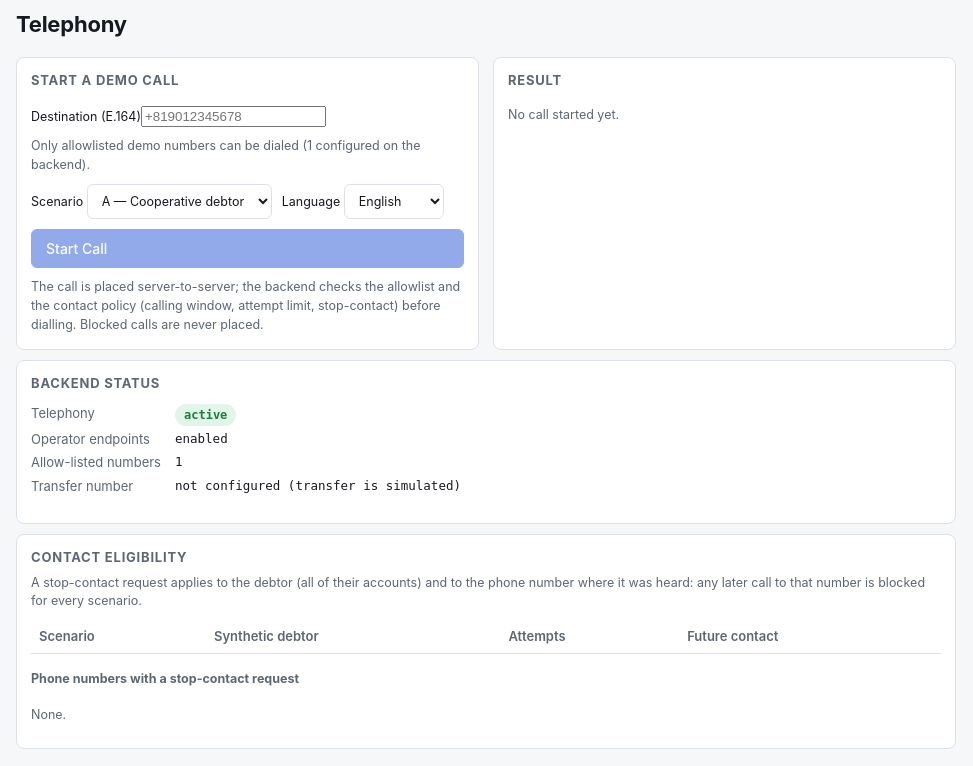
Test: Start Call › error 0 renders inline
The width and height of the screenshot is (973, 766).
Type "+81 90-1234-5678" into the field with placeholder "+819012345678" at (234,116), box [141, 106, 326, 127]
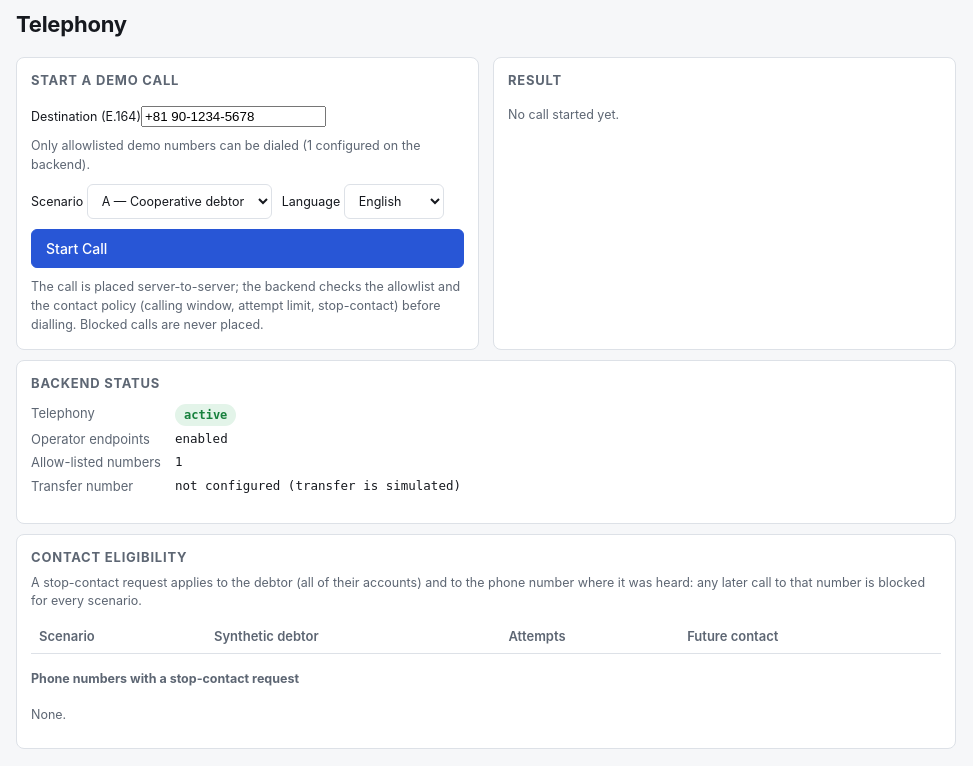
Submit the form named "Start call", box [16, 56, 479, 350]
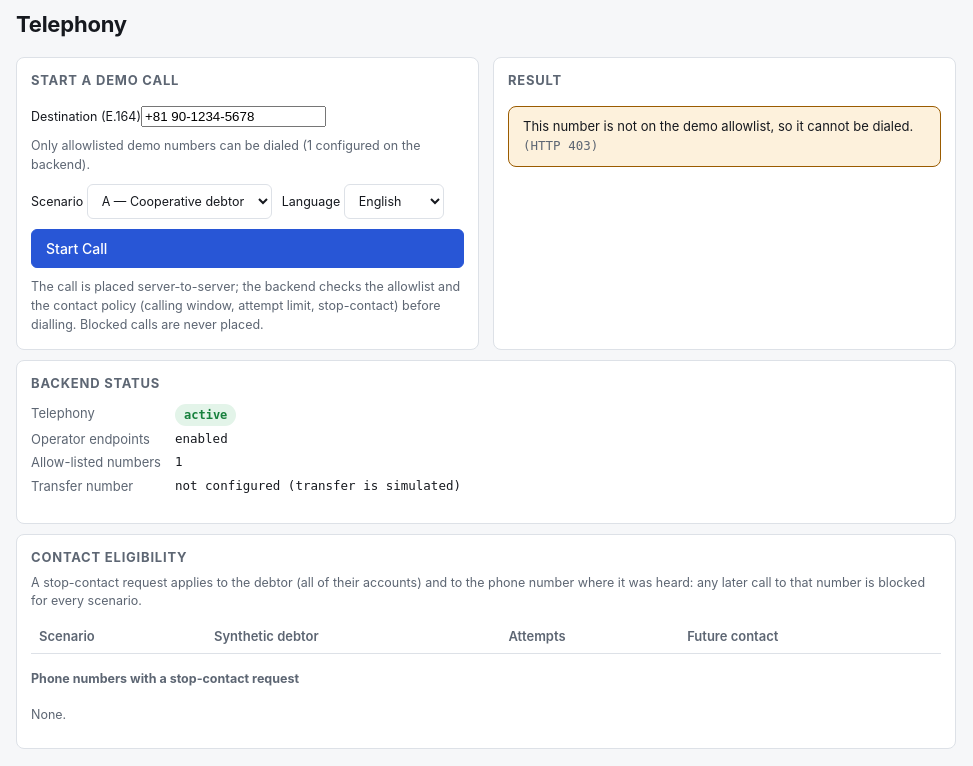
Expected: the message with test id "call-error" shows "not on the demo allowlist", [523, 118, 913, 134]
